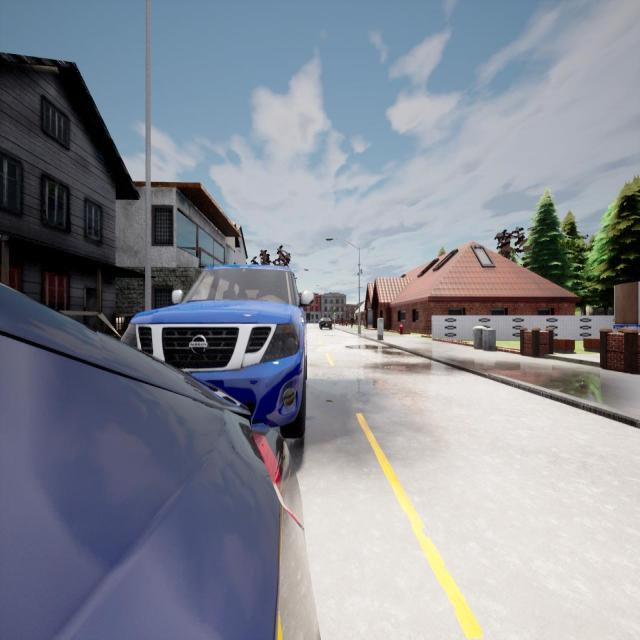Pedestrian: (350, 313, 354, 328)
Vehicle: (0, 288, 316, 638), (120, 266, 304, 436), (320, 318, 332, 330)
traffic_light: (334, 310, 336, 314)
